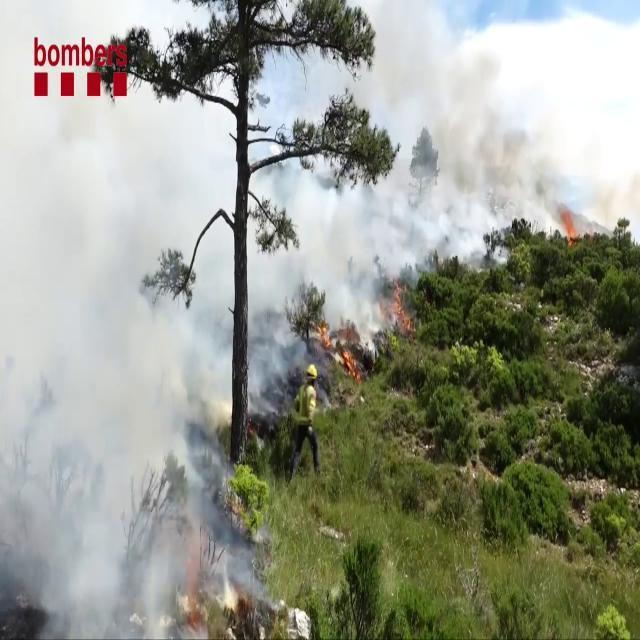Smoke: (0, 11, 246, 634), (280, 7, 631, 358)
